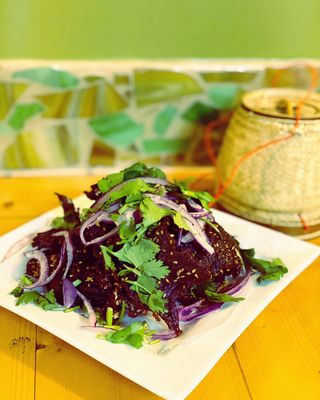pizza: (213, 86, 320, 237)
